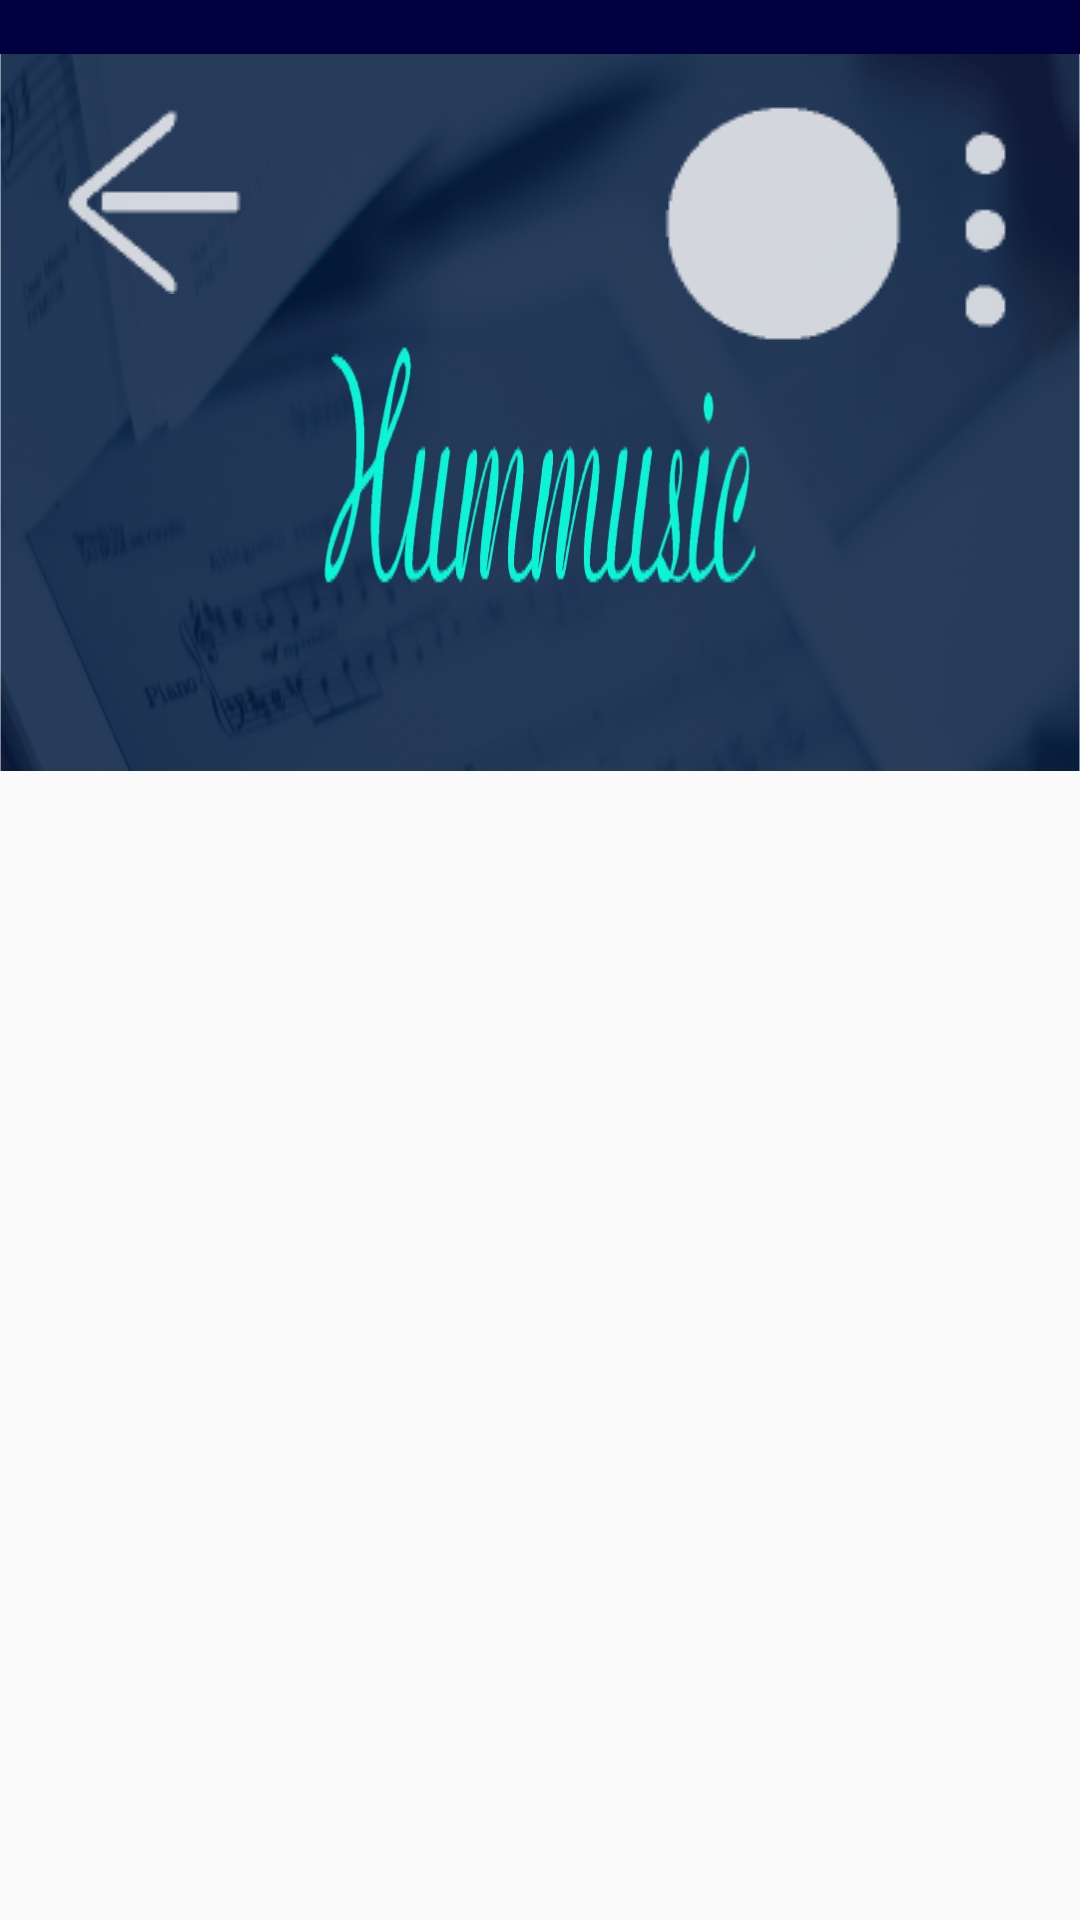

Point at icon controls on the screen. Image size 1080 × 1920, points as (x,y).
back: (154,202)
menu: (985,229)
